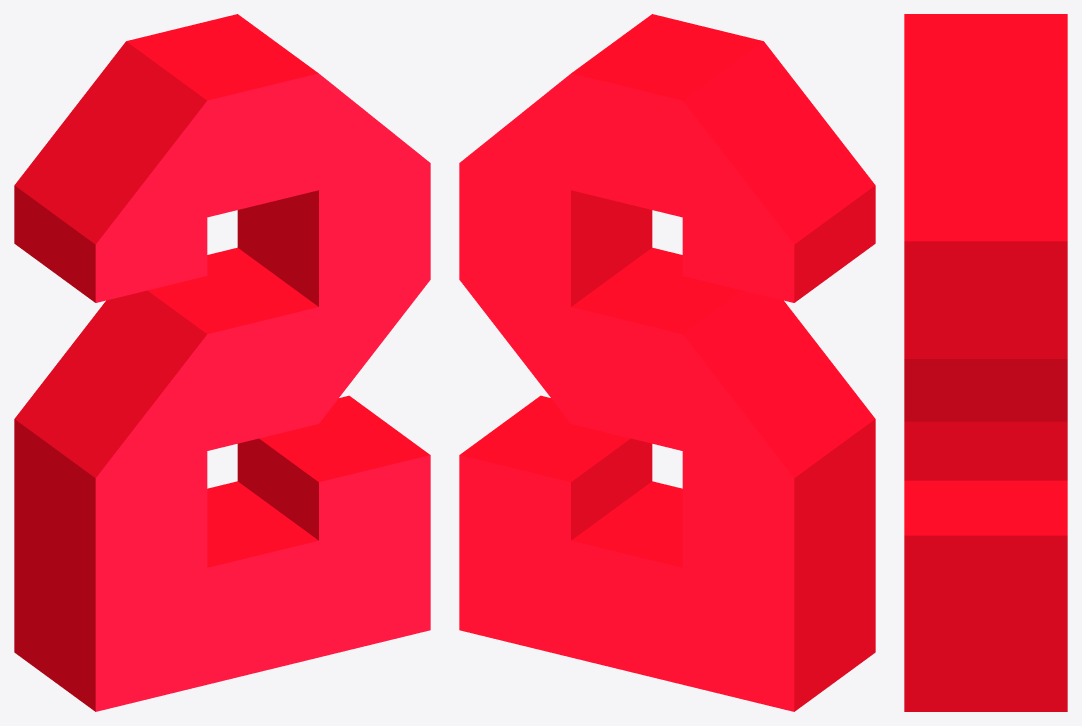
3 views of the same model, side by side, from view 1: azimuth 30°, elevation 25°; view 2: azimuth 150°, elevation 25°; view 3: azimuth 270°, elevation 25° (orthographic).
Parts seen in each view (by area): view 1: 2_DeltaBlock_Red; view 2: 2_DeltaBlock_Red; view 3: 2_DeltaBlock_Red.
Boxes of the visible parts, bbox=[...] form: 2_DeltaBlock_Red: bbox=[14, 14, 430, 711]; 2_DeltaBlock_Red: bbox=[459, 14, 875, 711]; 2_DeltaBlock_Red: bbox=[904, 14, 1067, 711].
Size of what is drawn, in the model's own units: 0.1071 by 0.1786 by 0.045.
2 materials, 2 textured.
